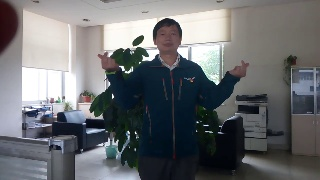hand: (96, 50, 119, 71), (228, 61, 250, 75)
